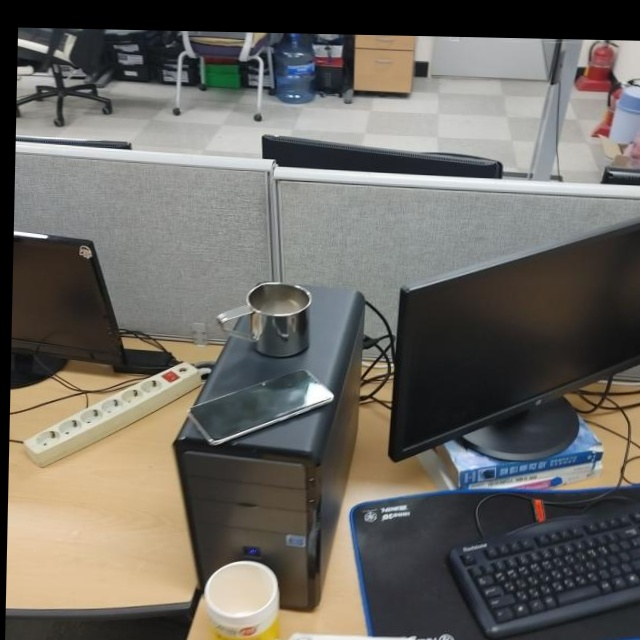cup: (216, 279, 313, 363)
phone: (185, 367, 337, 448)
